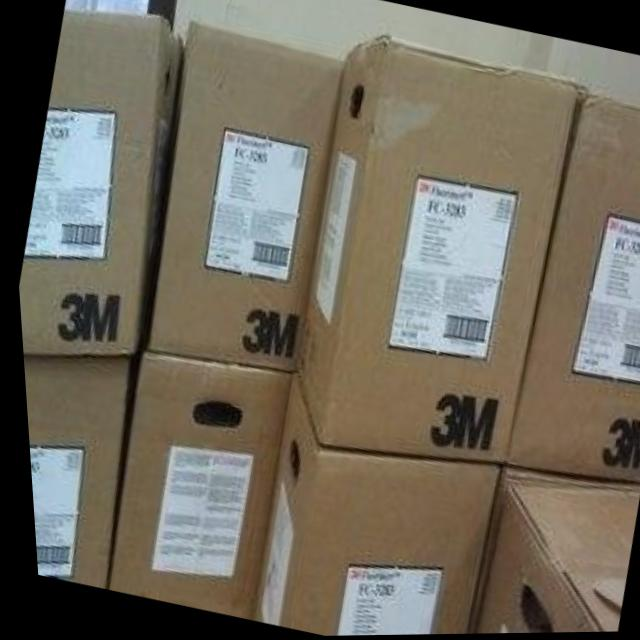box: (285, 37, 577, 467), (141, 20, 343, 374), (241, 374, 491, 637), (15, 9, 187, 356), (498, 92, 640, 485), (98, 349, 285, 620), (466, 486, 633, 635), (19, 355, 122, 589)
